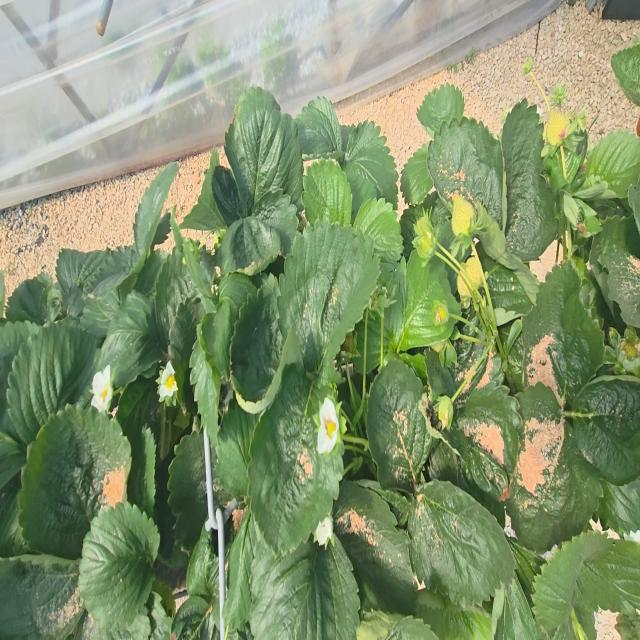Flowers: (317, 397, 339, 454), (91, 366, 113, 411), (157, 360, 178, 406), (314, 515, 333, 546)
Leaves: (248, 366, 343, 553), (17, 405, 131, 559), (505, 382, 602, 552), (279, 220, 379, 372), (248, 516, 360, 639), (408, 479, 514, 607), (333, 480, 417, 614), (522, 263, 603, 400), (7, 322, 97, 444), (79, 502, 159, 630), (225, 87, 302, 210), (367, 360, 436, 492), (501, 100, 557, 261), (443, 385, 519, 501), (428, 117, 503, 228), (533, 531, 611, 631), (574, 531, 640, 639), (573, 378, 640, 484), (98, 290, 166, 386), (0, 562, 83, 639), (231, 285, 287, 399), (399, 251, 460, 349), (343, 120, 398, 212), (168, 429, 207, 549), (155, 248, 199, 350), (134, 162, 178, 260), (215, 399, 258, 499), (224, 511, 257, 638), (169, 298, 204, 414), (586, 129, 640, 199), (180, 151, 227, 231), (55, 248, 109, 316), (218, 217, 280, 276), (303, 159, 352, 227), (80, 273, 128, 337), (601, 250, 640, 327), (295, 97, 342, 159), (6, 273, 61, 325), (591, 216, 640, 270), (417, 83, 464, 139), (487, 263, 532, 315), (401, 143, 433, 206), (611, 38, 640, 105), (425, 350, 456, 397), (211, 448, 231, 509)
Strawberries: (605, 329, 640, 378), (412, 214, 436, 266), (544, 108, 570, 146), (452, 195, 474, 235), (464, 255, 483, 289), (436, 395, 453, 428), (458, 276, 469, 295), (435, 305, 447, 322), (523, 57, 533, 73)
